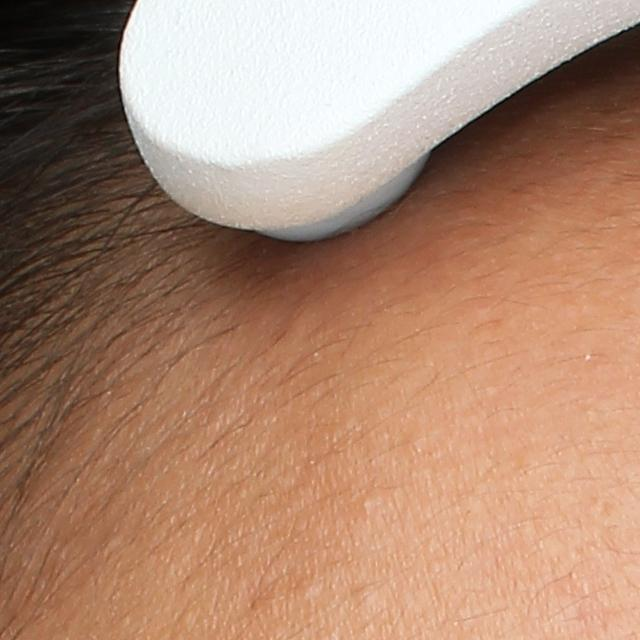comedo: (353, 581, 380, 613), (299, 571, 327, 598), (356, 491, 381, 515)
